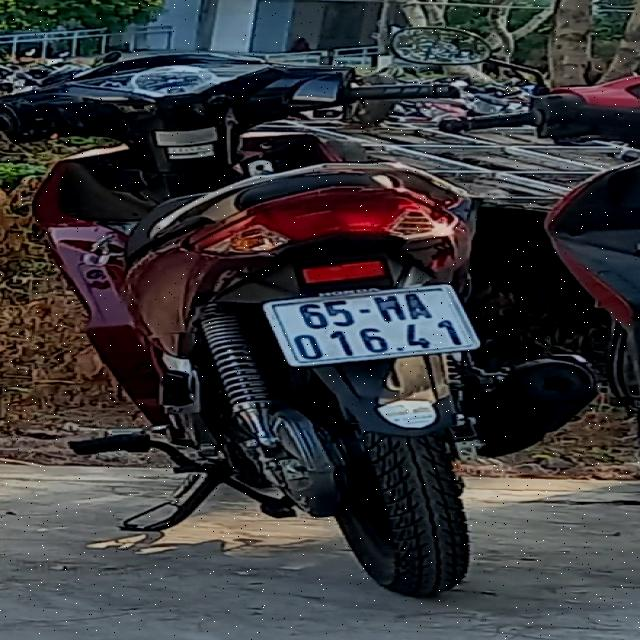0: (292, 332, 322, 361)
1: (436, 318, 462, 346), (329, 330, 355, 356)
4: (405, 322, 432, 350)
5: (323, 298, 357, 327)
6: (355, 327, 393, 354), (298, 303, 329, 330)
A: (405, 292, 434, 320)
M: (372, 295, 404, 322)
